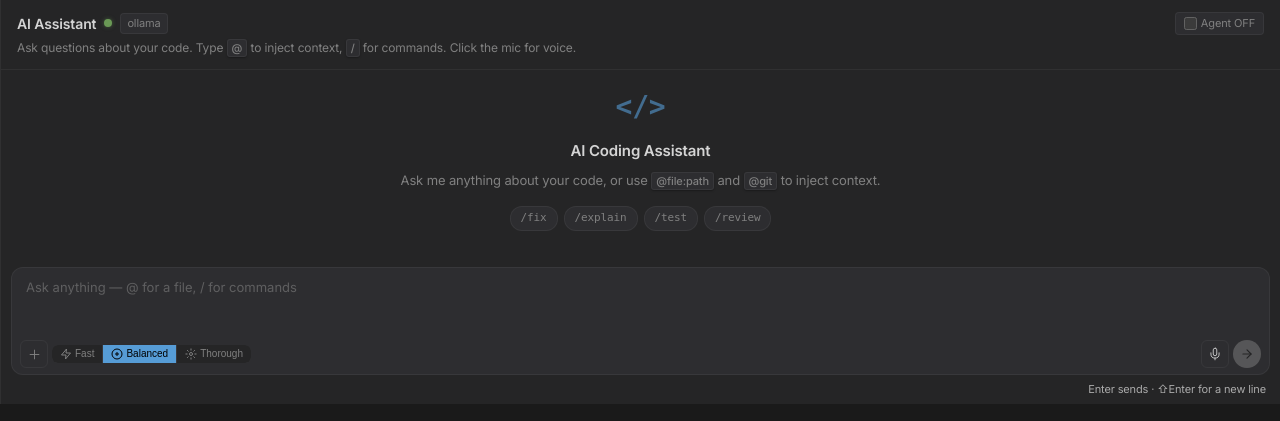
Test: AIChat › shows the current goal inline for bare /goal
Type "/goal" into the text box with placeholder "Ask anything — @ for a file, / for commands".
click(640, 302); type("/goal")  # box top-left (12, 268), bottom-right (1269, 336)
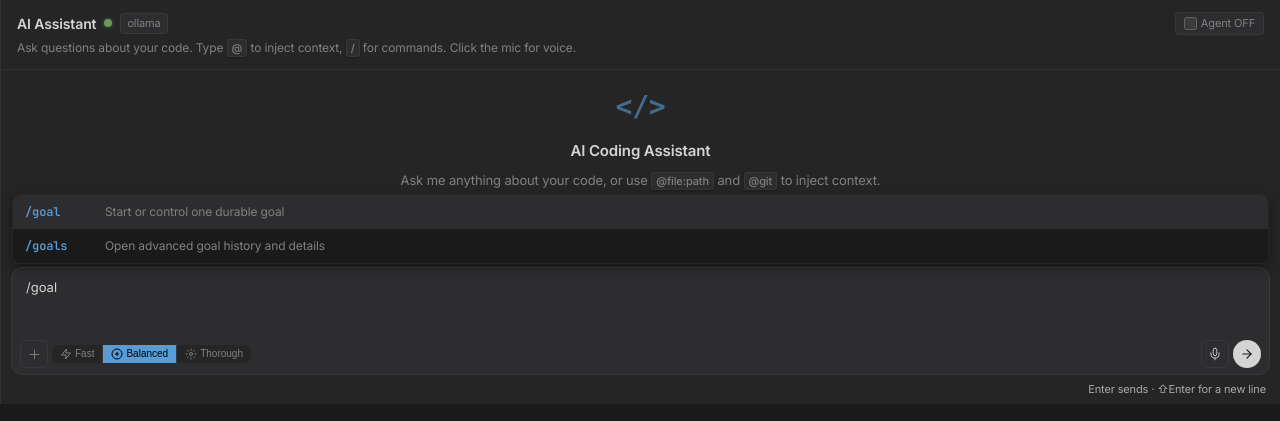
Press Enter in the text box with placeholder "Ask anything — @ for a file, / for commands", box top-left (12, 268), bottom-right (1269, 336)
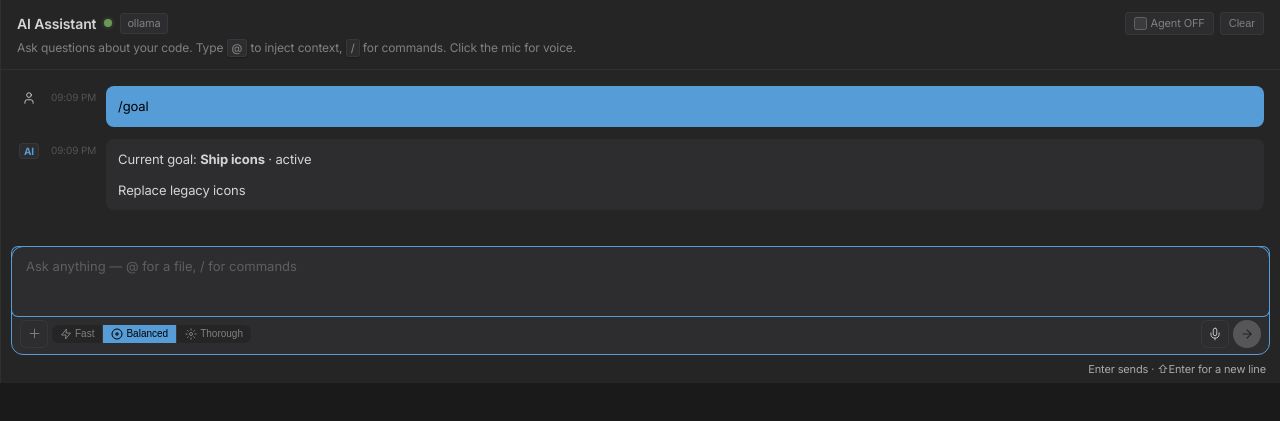
Expected: the text "Current goal: Ship icons · active" is shown, top-left (118, 151), bottom-right (311, 167)
